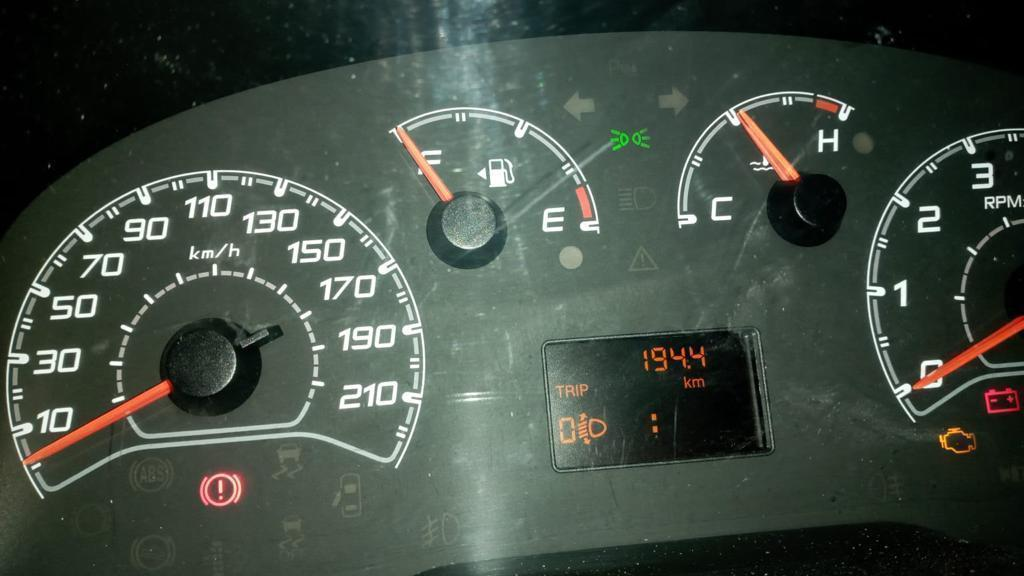,: (686, 364, 691, 370)
0: (557, 415, 576, 444)
1: (641, 349, 649, 372)
4: (688, 345, 706, 368), (669, 346, 685, 369)
9: (650, 346, 668, 371)
X: (650, 412, 658, 433), (692, 378, 705, 389), (682, 375, 692, 389), (565, 384, 575, 398), (578, 383, 588, 396), (554, 385, 564, 398), (575, 384, 578, 396)
odometer: (541, 325, 775, 474)
